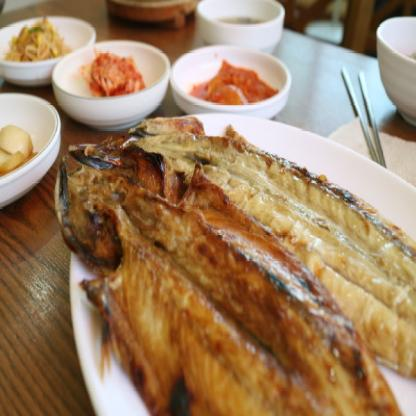Peixe: (66, 125, 416, 416)
